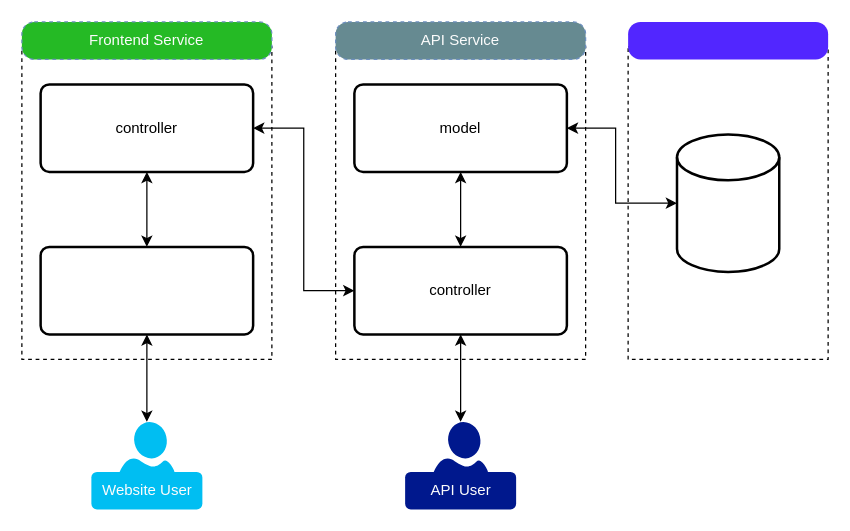
This 850x531 diagram has some shape labels left out. The shapes that lost their labels are listed below. From the top down, each one's box as (x1, y1, x2, y2) in pixels, then its label:
(628, 21, 828, 59): Cloud Database Service
(675, 132, 780, 272): DB
(39, 245, 254, 335): view
